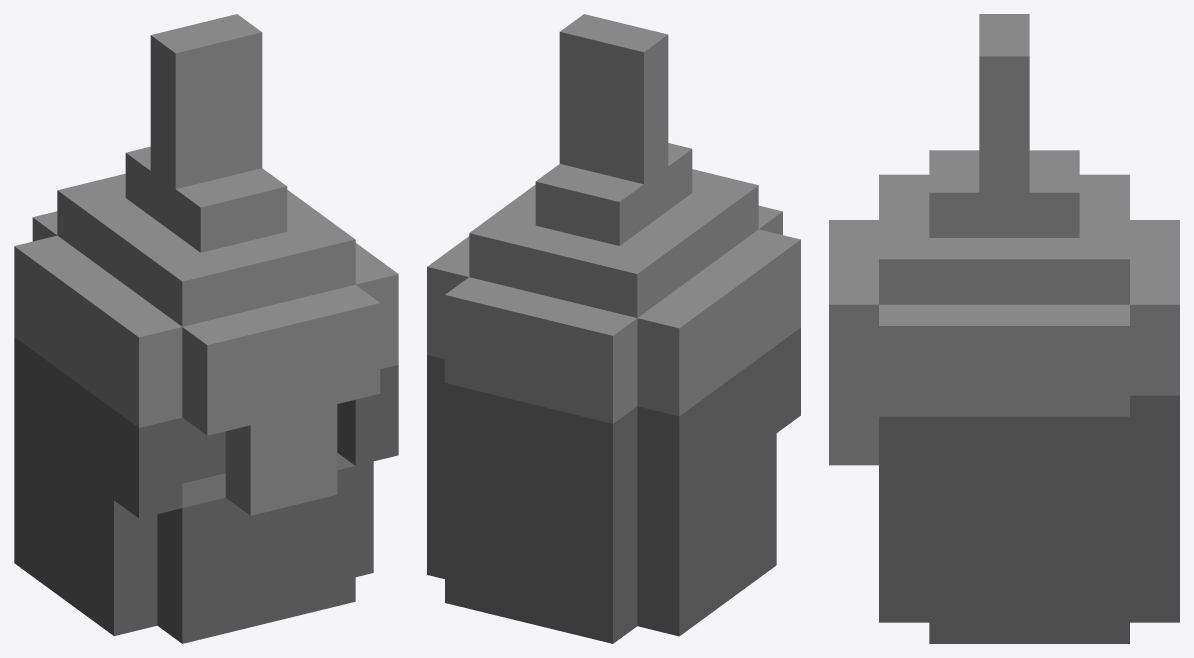
The model's file is humanoid-149-helm_hvy_1b_sh.obj.
3 views of the same model, side by side, from view 1: azimuth 30°, elevation 25°; view 2: azimuth 150°, elevation 25°; view 3: azimuth 270°, elevation 25° (orthographic). The views are drawn at different scales.
Visible parts, largest first — view 1: helm_hvy_1b_sh; view 2: helm_hvy_1b_sh; view 3: helm_hvy_1b_sh.
Part boxes in pixels (x1,y1,x2,y2): helm_hvy_1b_sh: (14, 14, 398, 643); helm_hvy_1b_sh: (427, 14, 800, 643); helm_hvy_1b_sh: (829, 14, 1179, 643).
Size of the model in its own units: 0.6 by 1.2 by 0.7.
Materials: 1 (1 with a texture image).
